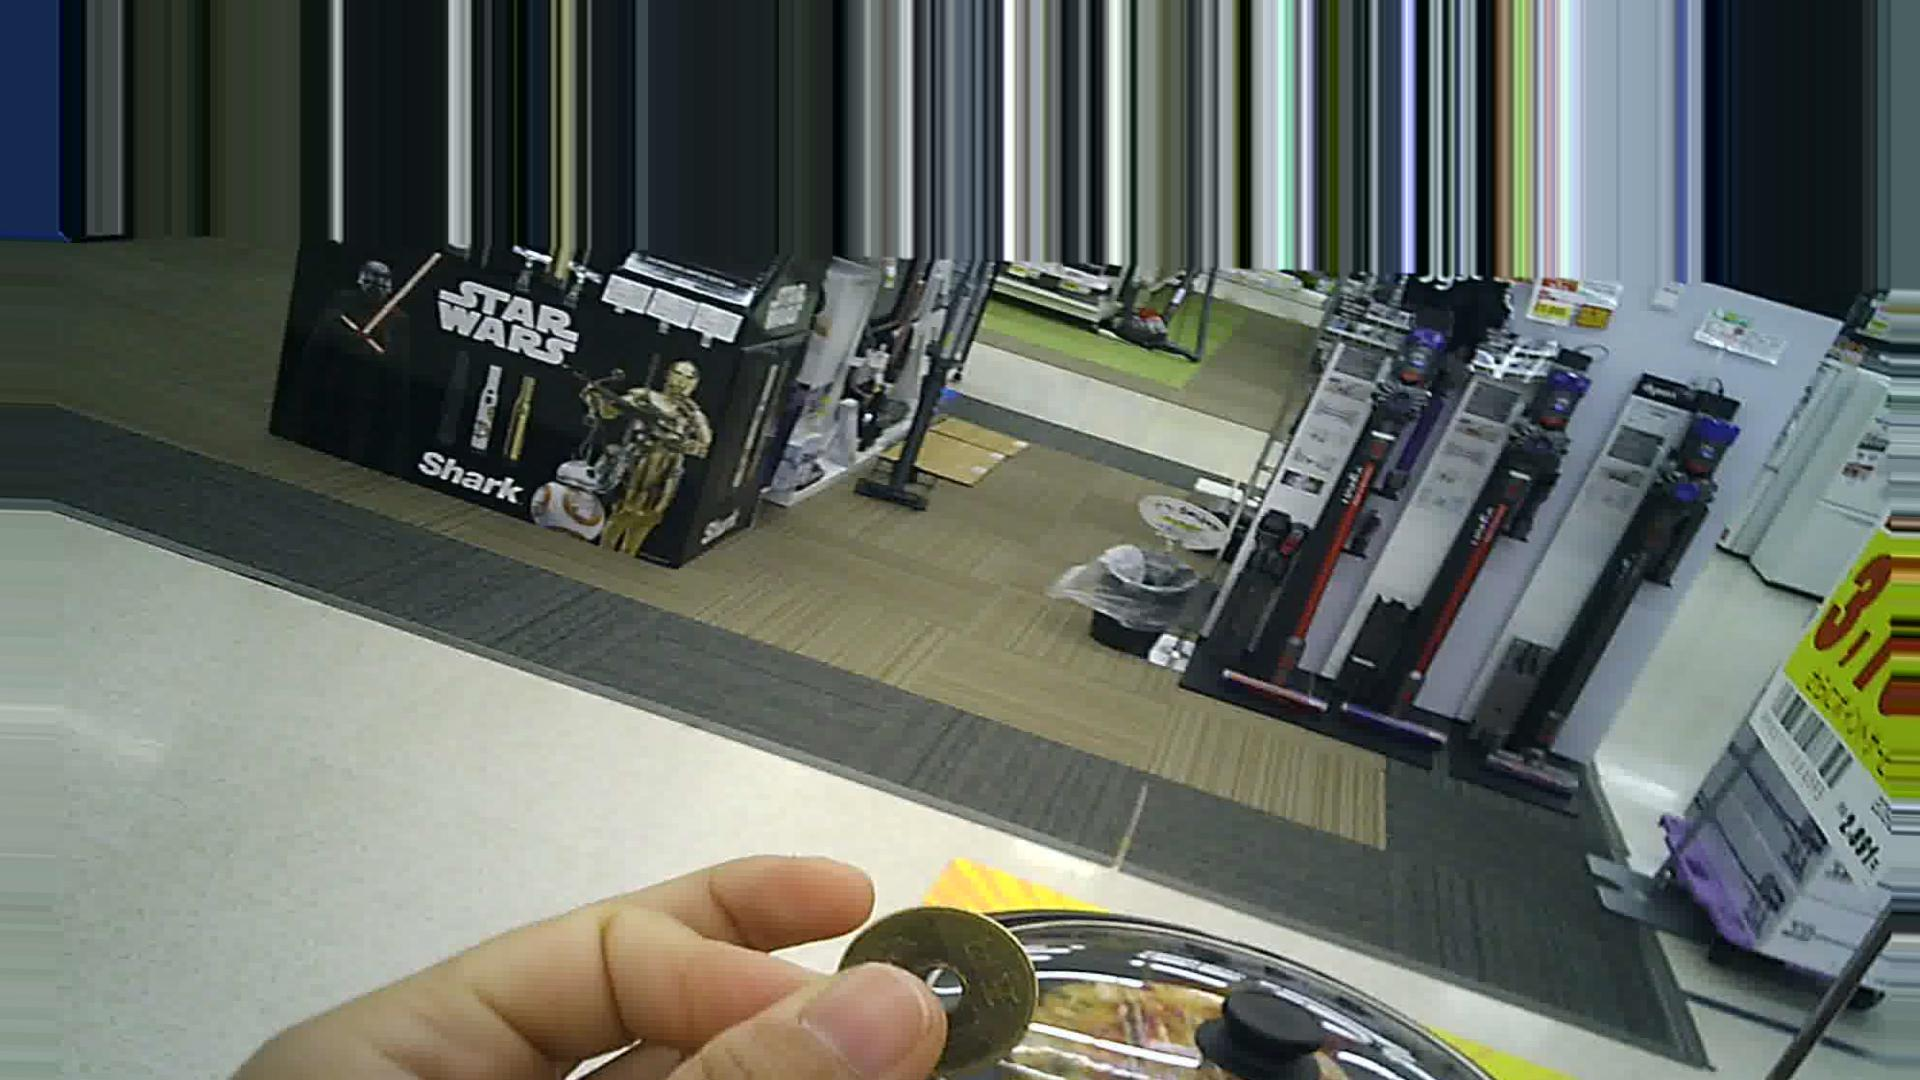5 Yen: (825, 893, 1033, 1079)
